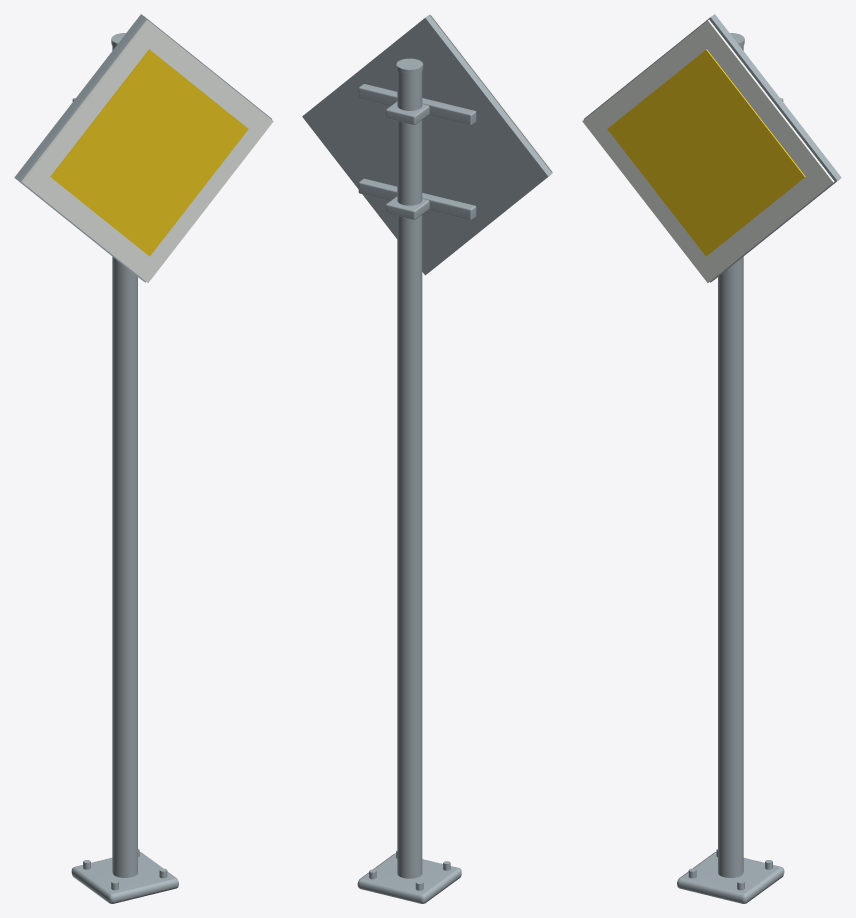
The model's file is DS_Sign_Priority.fbx.
3 renders of one model, left to right at view 1: azimuth 30°, elevation 25°; view 2: azimuth 150°, elevation 25°; view 3: azimuth 330°, elevation 25°, orthographic. The views are drawn at different scales.
Parts seen in each view (by area): view 1: Face_Field.002, Post.002, Face_Border.002, BasePlate.002, Plate_Back.002; view 2: Plate_Back.002, Post.002, BasePlate.002, RearRail.005, RearRail.004, PostClamp.004, PostClamp.005, Face_Border.002; view 3: Face_Field.002, Post.002, Face_Border.002, BasePlate.002, Plate_Back.002.
Boxes of the visible parts, x1=… form: Face_Field.002: x1=50, y1=49, x2=248, y2=256; Post.002: x1=112, y1=46, x2=137, y2=877; Face_Border.002: x1=21, y1=20, x2=273, y2=282; BasePlate.002: x1=71, y1=852, x2=178, y2=903; Plate_Back.002: x1=14, y1=14, x2=271, y2=282; Plate_Back.002: x1=302, y1=14, x2=552, y2=275; Post.002: x1=397, y1=71, x2=422, y2=878; BasePlate.002: x1=357, y1=853, x2=461, y2=903; RearRail.005: x1=358, y1=84, x2=476, y2=125; RearRail.004: x1=358, y1=178, x2=476, y2=220; PostClamp.004: x1=385, y1=196, x2=429, y2=219; PostClamp.005: x1=385, y1=101, x2=429, y2=124; Face_Border.002: x1=430, y1=14, x2=553, y2=172; Face_Field.002: x1=607, y1=49, x2=805, y2=256; Post.002: x1=718, y1=46, x2=743, y2=877; Face_Border.002: x1=582, y1=20, x2=834, y2=282; BasePlate.002: x1=677, y1=852, x2=784, y2=903; Plate_Back.002: x1=584, y1=14, x2=841, y2=282.
Bounding box in the file's own units: 87 × 289 × 26.6.
